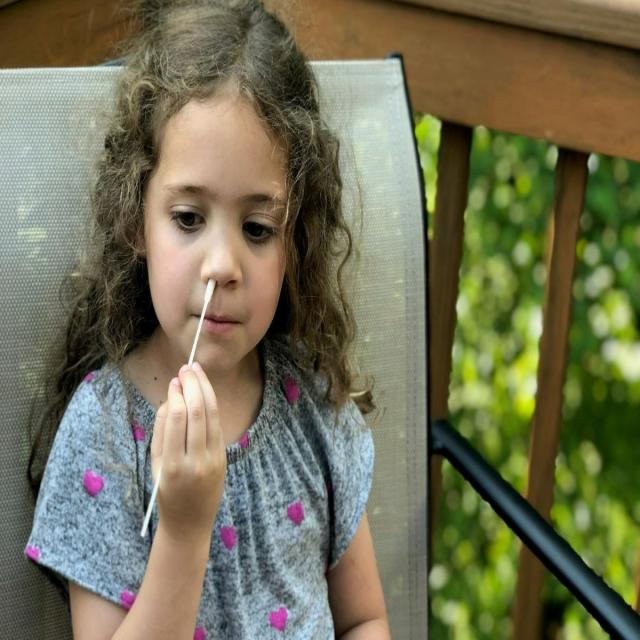child: (33, 4, 391, 640)
